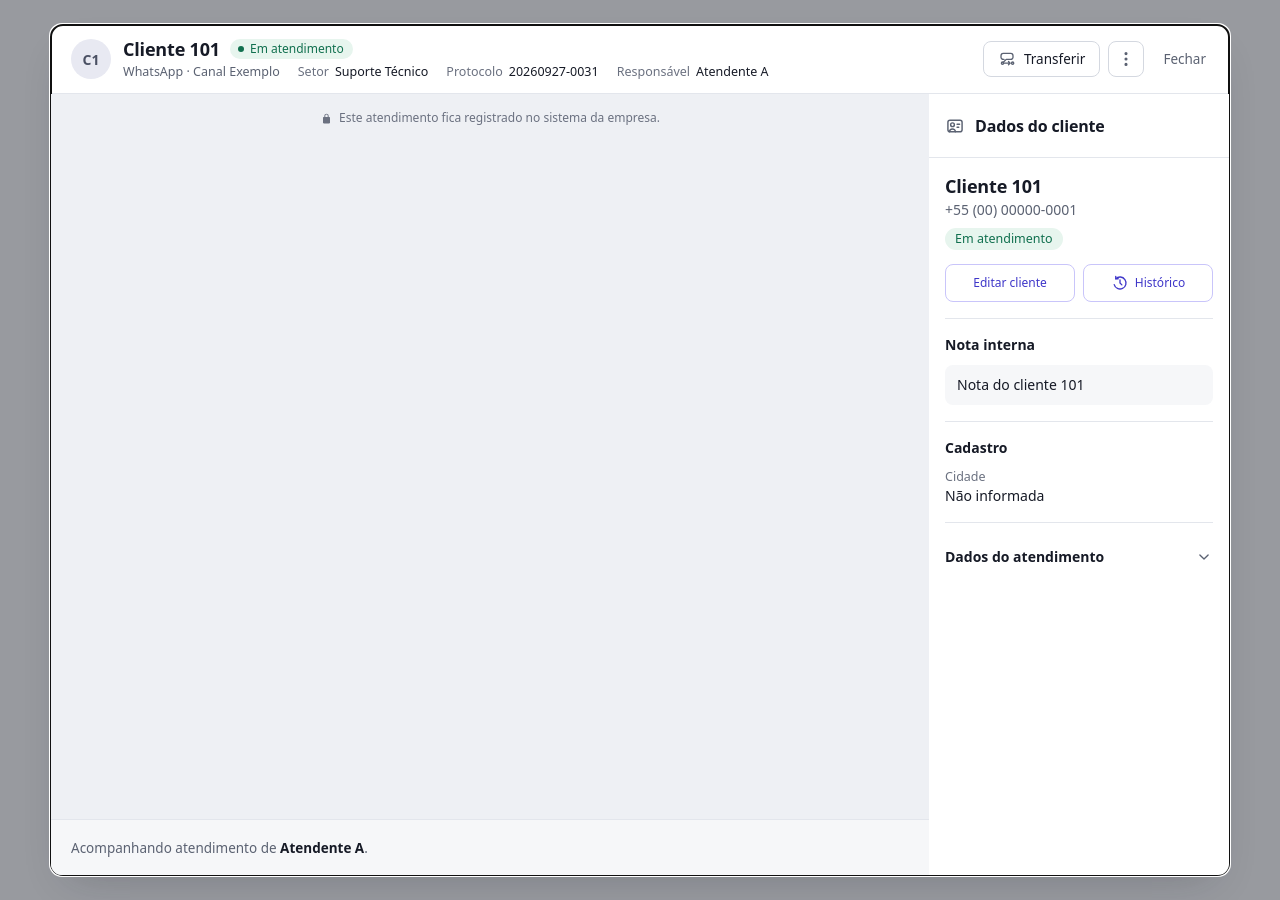
popup da Supervisão no desktop › clicar fora fecha o menu sem fechar o popup
Click the button named "Mais opções" at (1126, 59), box [1108,41,1144,77]
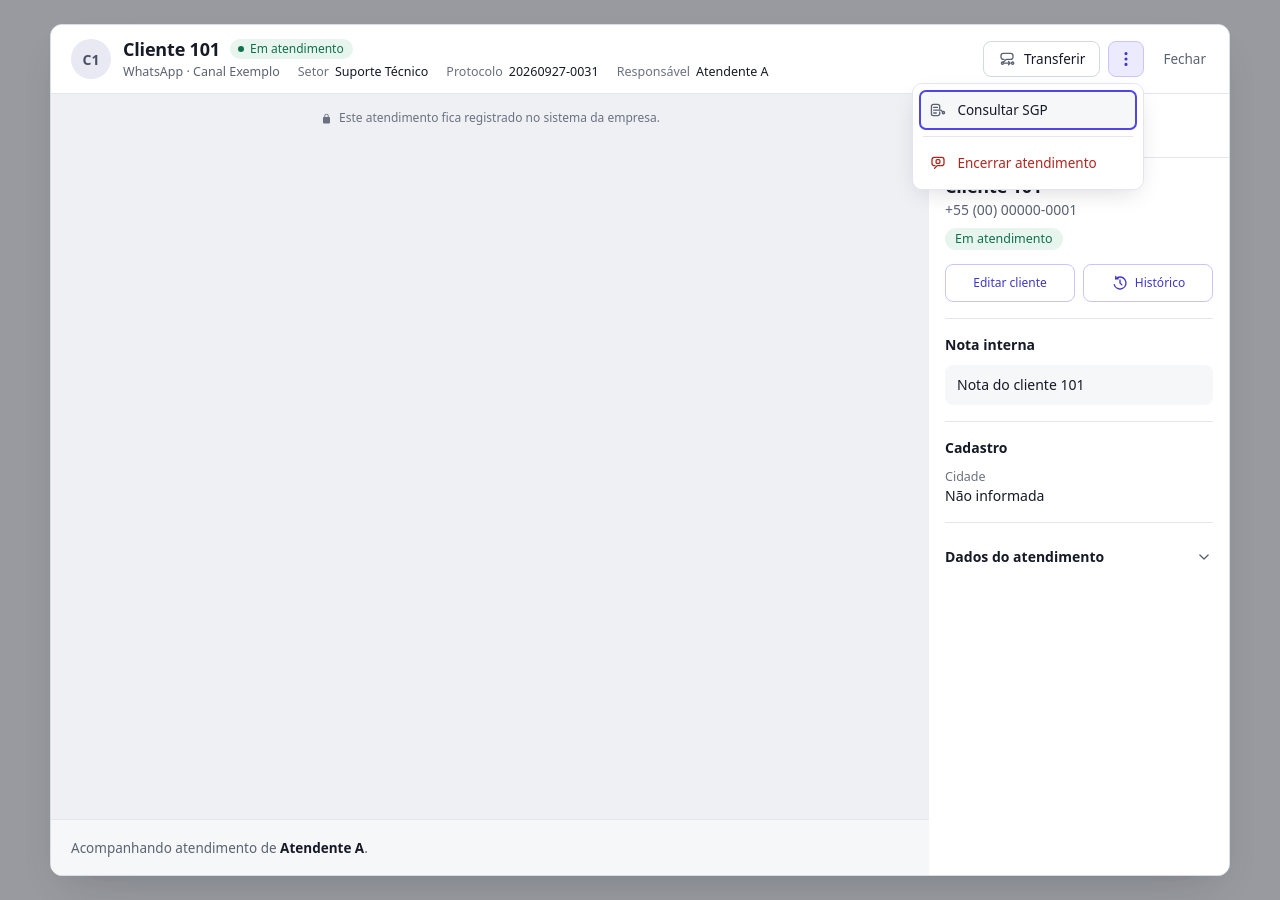
Click the heading "Cliente 101" at (172, 49), box [123,37,220,61]
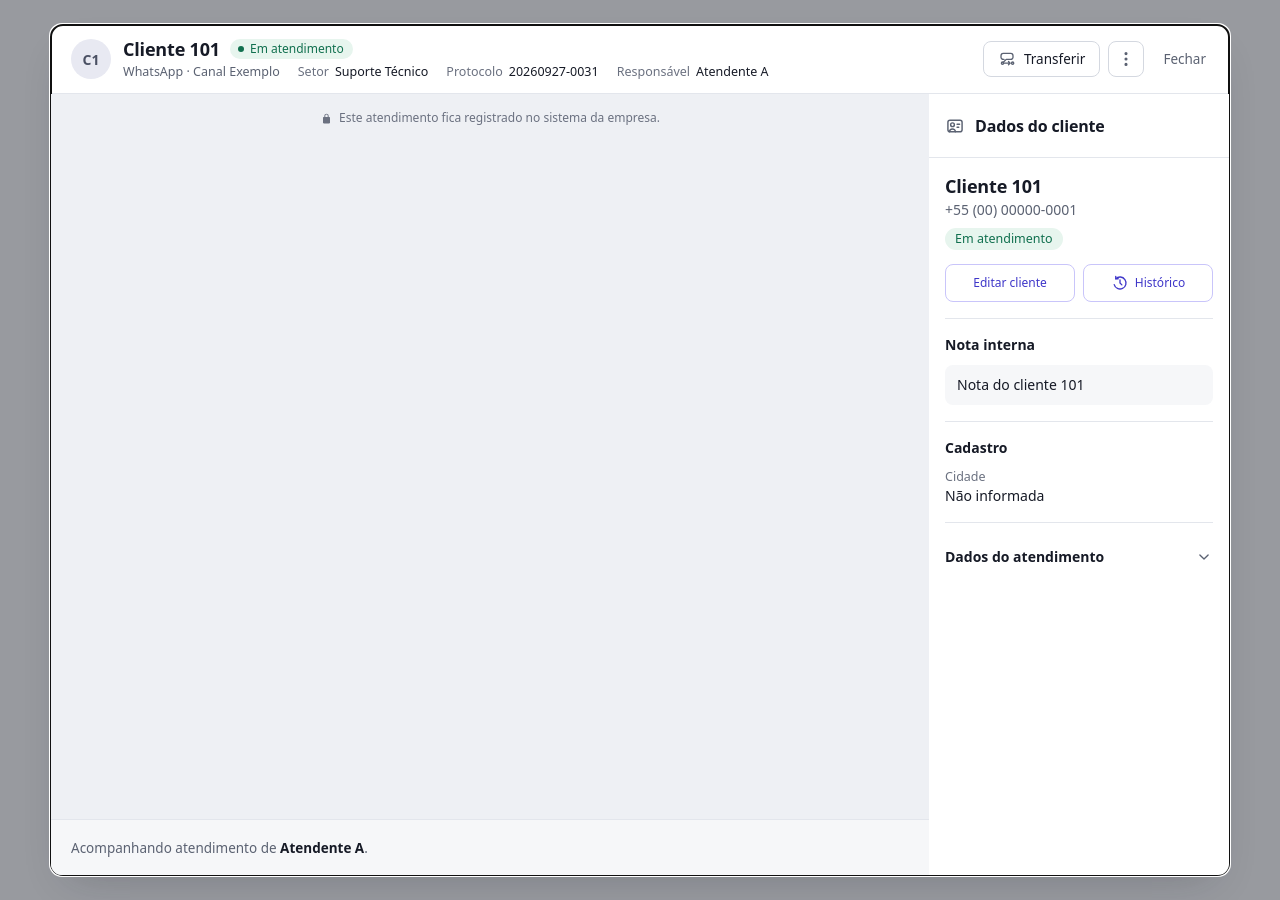
Now the menu is gone
